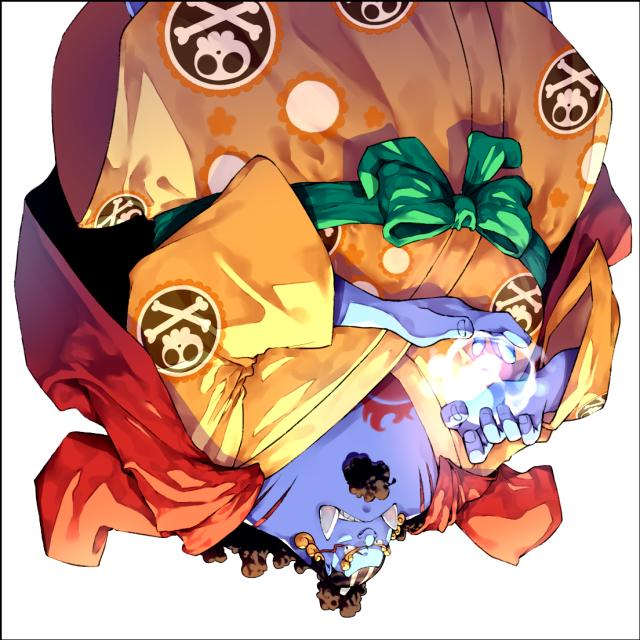Jinbe: (10, 0, 635, 619)
